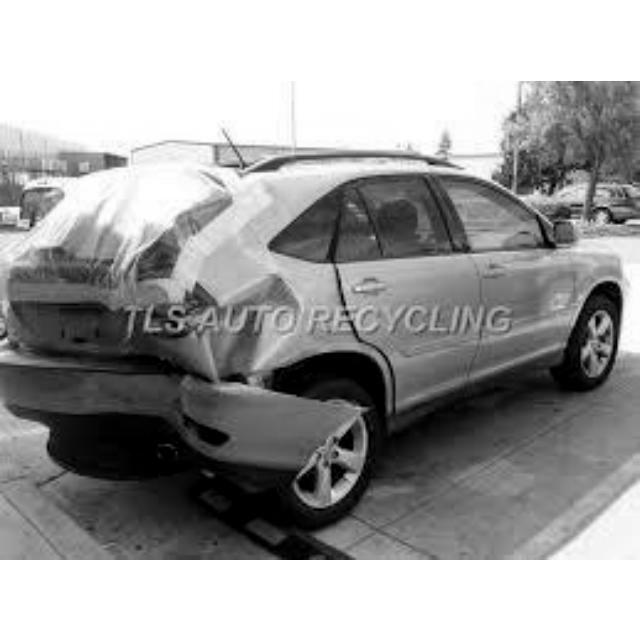quaterpanel-dent: (194, 261, 349, 382)
rear-bumper-dent: (15, 352, 257, 448)
